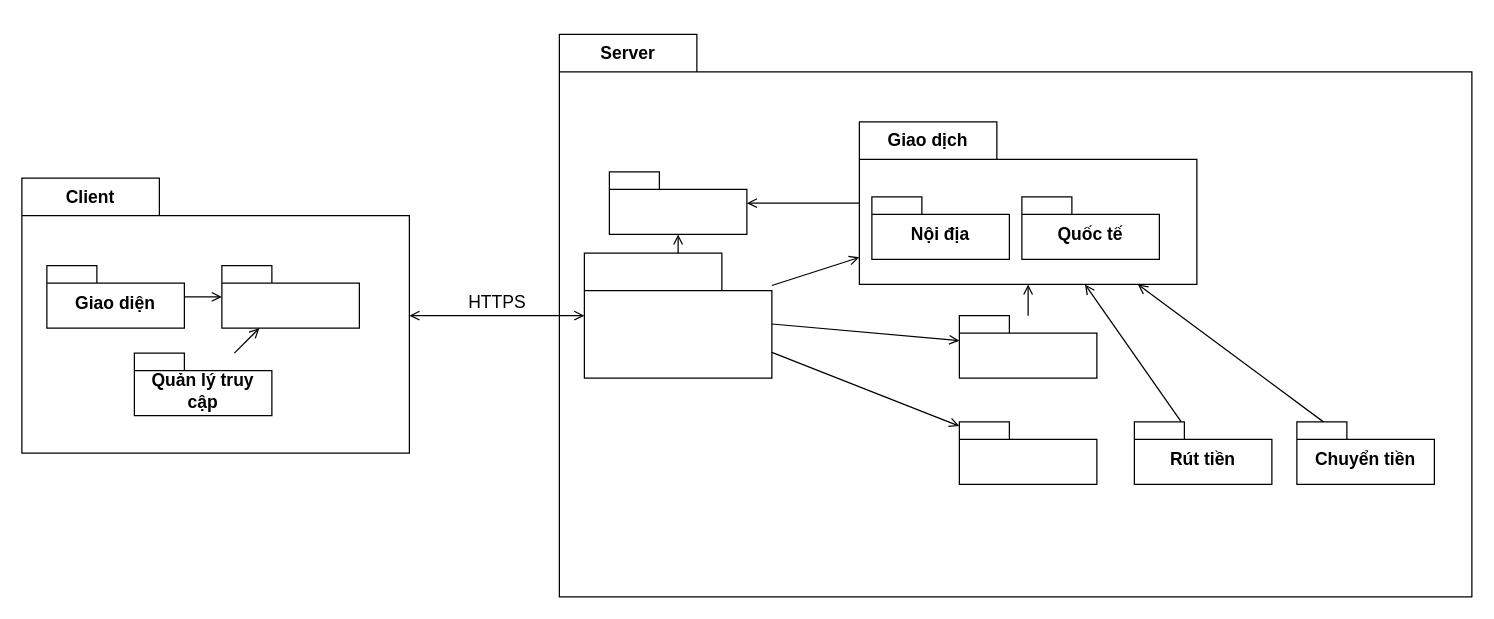
This 1494x619 diagram has some shape labels left out. Here are the shapes that lost their labels. From the top down, the centre of each, then its label:
the point at 677,202: Xác thực
the point at 290,296: Cache
the point at 677,315: API Gateway
the point at 1027,346: Vay
the point at 1027,452: Quản trị viên
